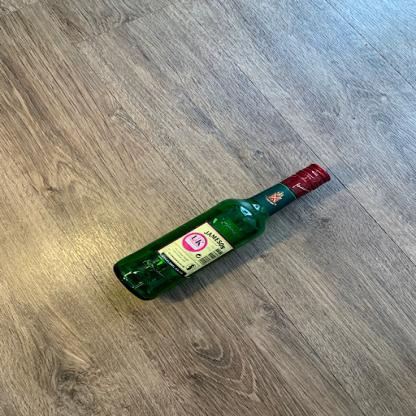trash: (112, 164, 332, 300)
